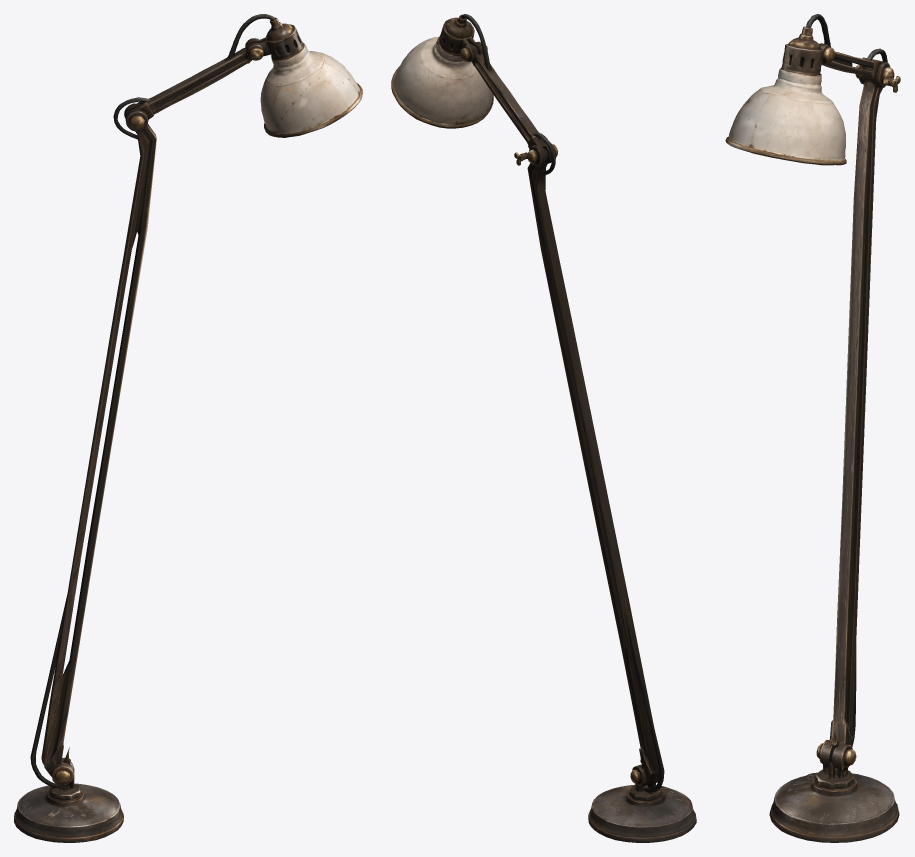
Rendered from lamp.glb.
3 renders of one model, left to right at view 1: azimuth 30°, elevation 25°; view 2: azimuth 150°, elevation 25°; view 3: azimuth 270°, elevation 25°, orthographic. The views are drawn at different scales.
Visible parts, largest first — view 1: PreparationLampArt; view 2: PreparationLampArt; view 3: PreparationLampArt.
Boxes of the visible parts, <box> form: PreparationLampArt: <box>14,14,362,842</box>; PreparationLampArt: <box>391,14,696,842</box>; PreparationLampArt: <box>725,14,900,842</box>.
Size of the model in its own units: 0.3842 by 0.8931 by 0.1566.
Materials: 1 (1 with a texture image).
